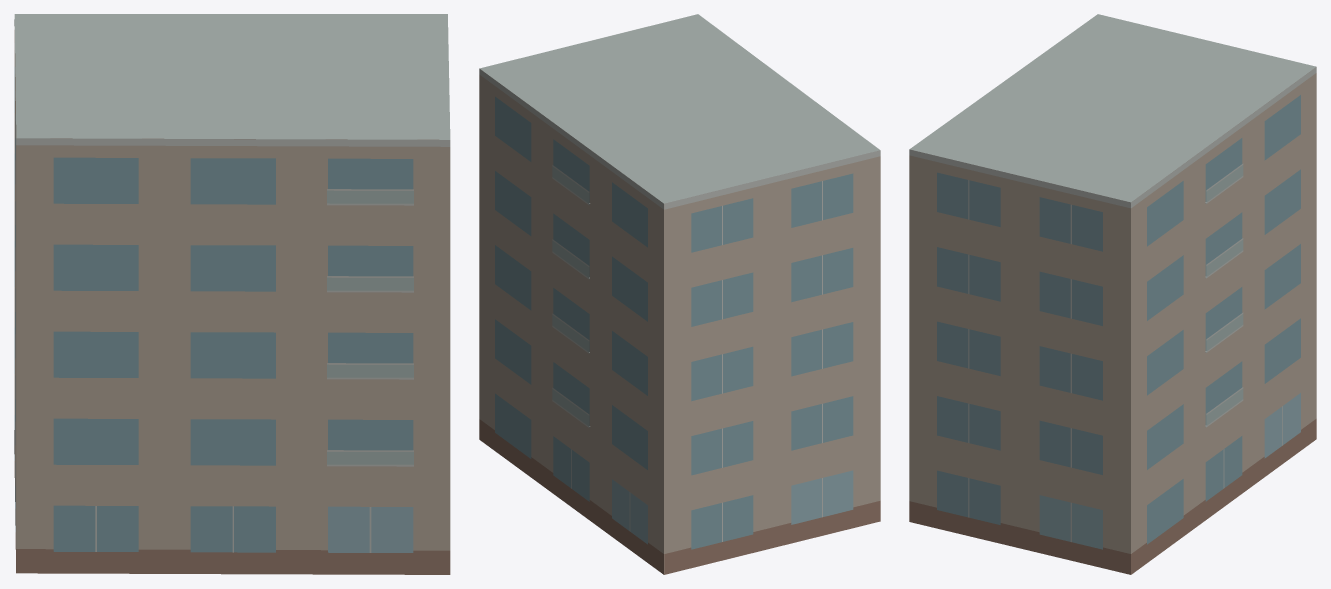
File: survey-upis-32878417.glb
3 views of the same model, side by side, from view 1: azimuth 30°, elevation 25°; view 2: azimuth 150°, elevation 25°; view 3: azimuth 270°, elevation 25° (orthographic). The views are drawn at different scales.
Visible parts, largest first — view 1: survey-upis-32878417.tmp; view 2: survey-upis-32878417.tmp; view 3: survey-upis-32878417.tmp.
Part boxes in pixels (box(x1,y1,x2,y2)): survey-upis-32878417.tmp: box(14, 14, 450, 574); survey-upis-32878417.tmp: box(479, 14, 880, 574); survey-upis-32878417.tmp: box(909, 14, 1316, 574).
Bounding box in the file's own units: 16.39 × 15.1 × 14.97.
